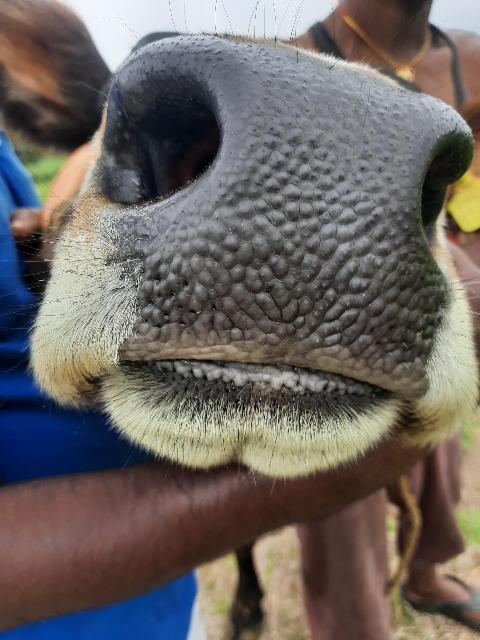Muzzle: (150, 41, 434, 372)
